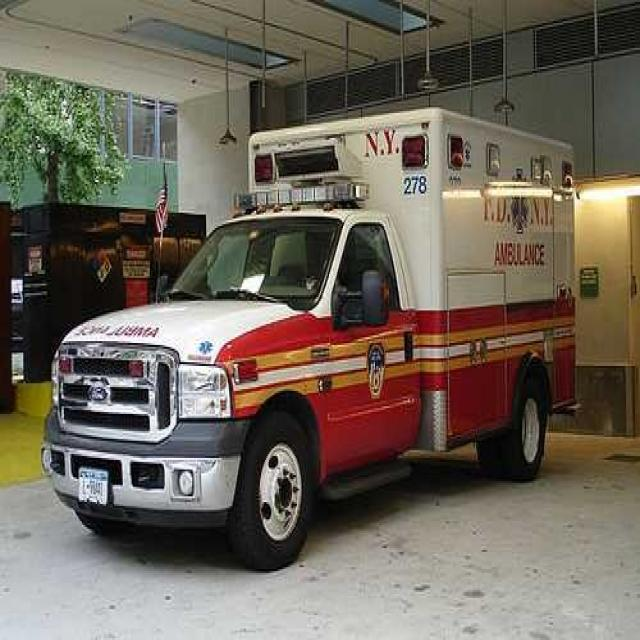emergency-vehicle: (58, 117, 594, 575)
